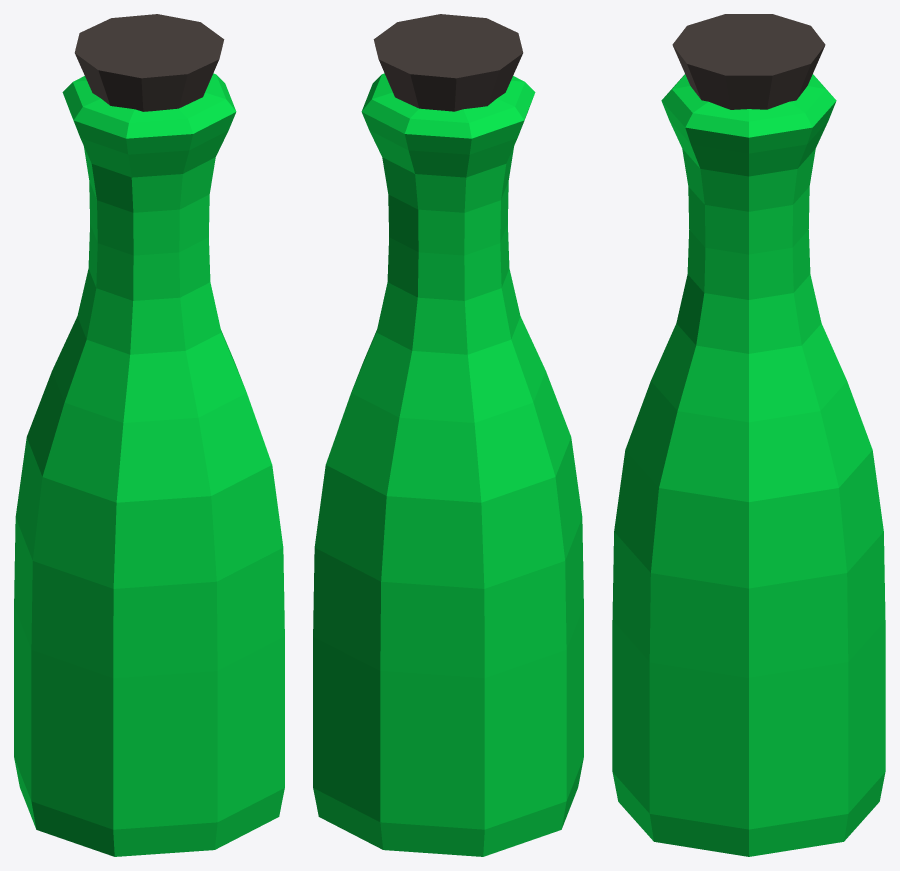
Rendered from Stamina_Potion_001.fbx.
3 views of the same model, side by side, from view 1: azimuth 30°, elevation 25°; view 2: azimuth 150°, elevation 25°; view 3: azimuth 270°, elevation 25° (orthographic).
Parts seen in each view (by area): view 1: Stamina Potion.001; view 2: Stamina Potion.001; view 3: Stamina Potion.001.
Boxes of the visible parts, left/top/right/bottom form: Stamina Potion.001: left=14, top=14, right=284, bottom=856; Stamina Potion.001: left=313, top=14, right=583, bottom=856; Stamina Potion.001: left=612, top=14, right=885, bottom=856.
Bounding box in the file's own units: 13.24 × 40.88 × 13.24.
